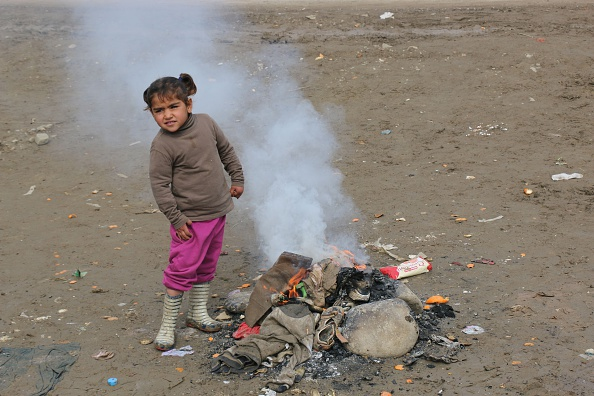em pe: (129, 72, 249, 356)
